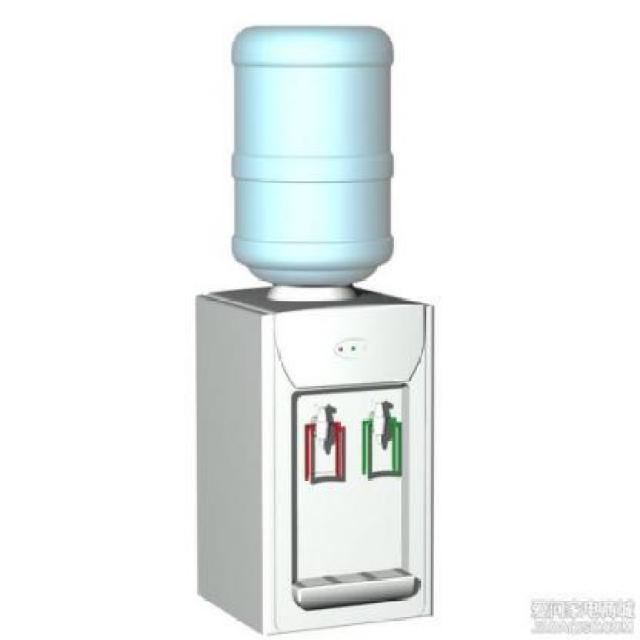cooler: (194, 18, 440, 640)
